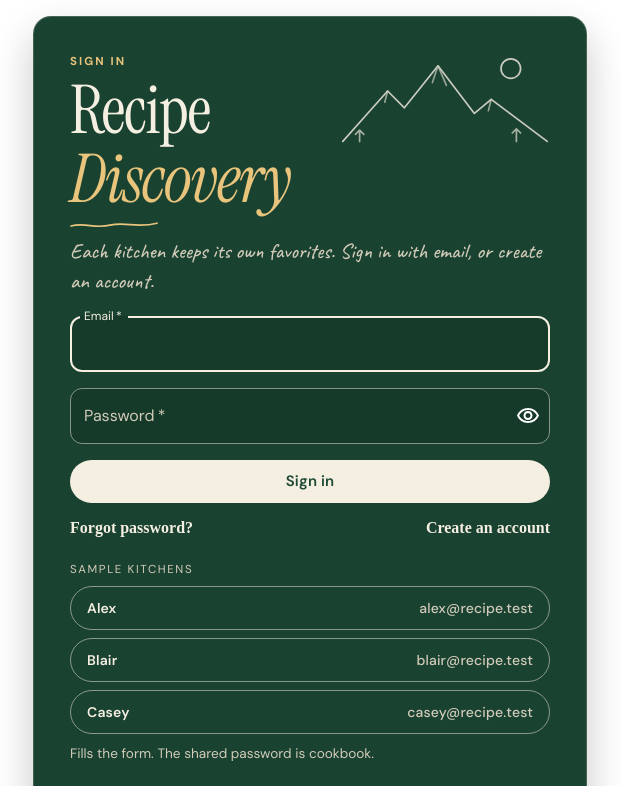
Scenario: LoginPage › fills a sample kitchen without signing in
Click the button "Alex alex@recipe.test" at (476, 608), box [70,586,550,630]
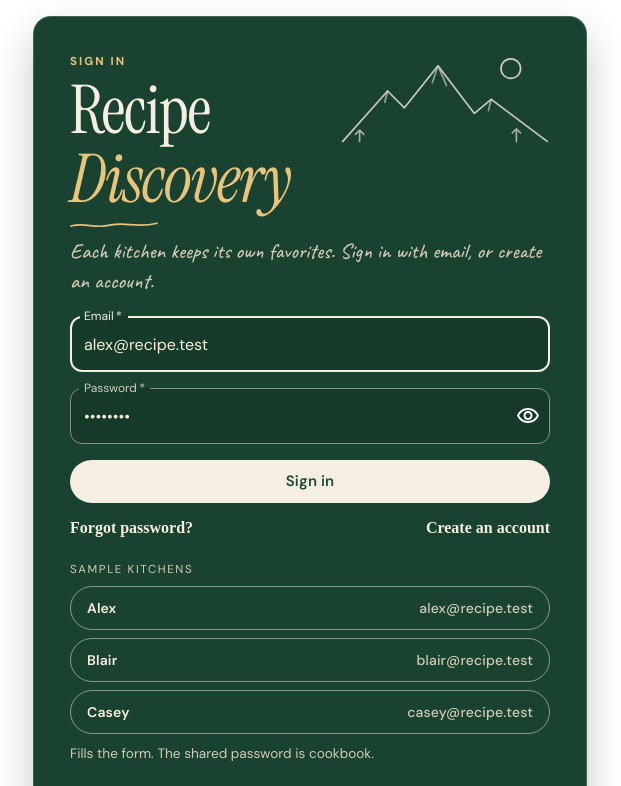
Result: the field labelled "Email *" holds "alex@recipe.test" at [70,316,550,372]
Result: the password field labelled "Password *" holds "cookbook" at [70,388,500,444]
